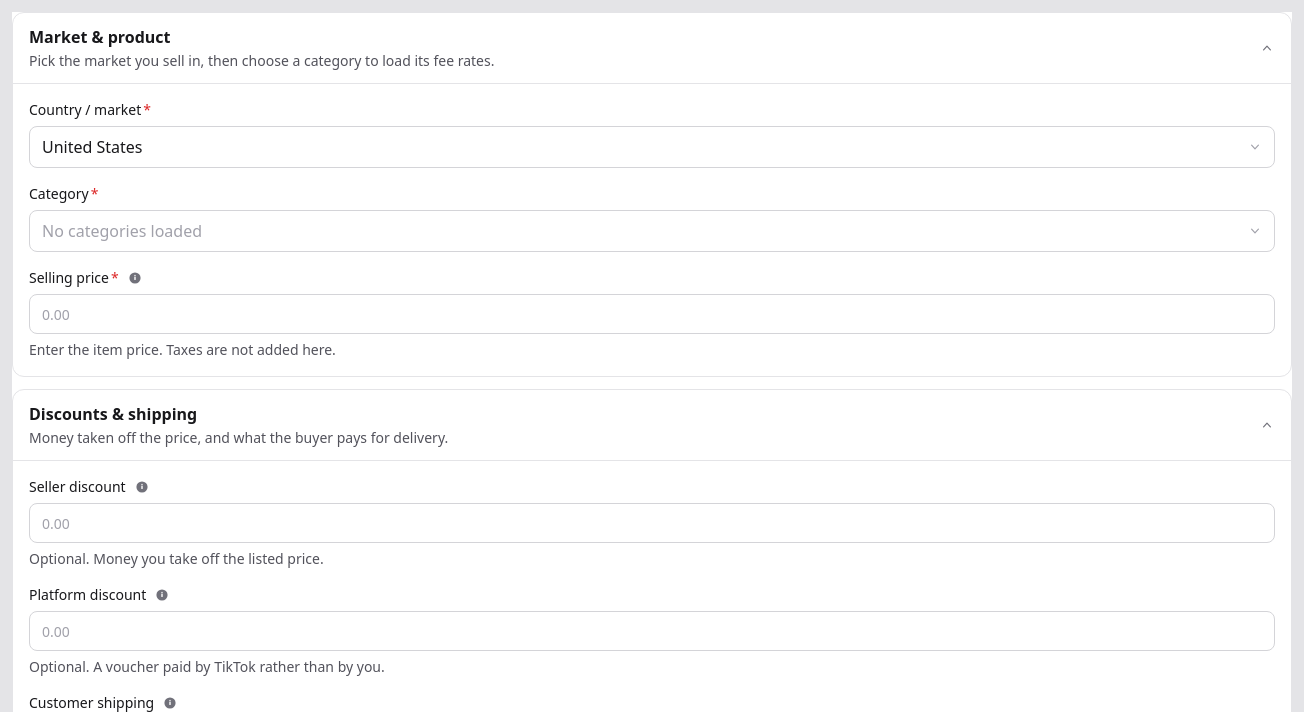
Test case: PH Seller tier control in the form › renders the control for PH
Focus the dropdown labelled "Country / market*": [652, 147] box [29,126,1275,168]
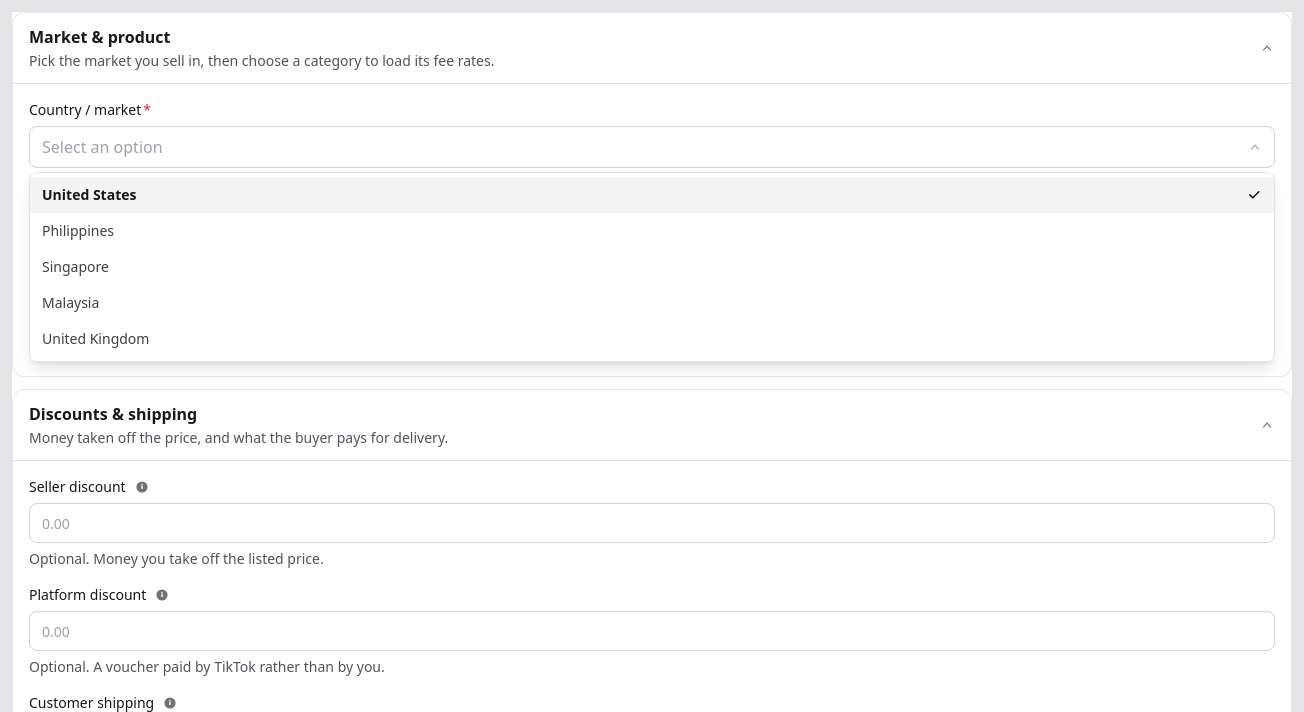
Press the mouse on the option "Philippines": [78, 230] box [42,221,114,240]
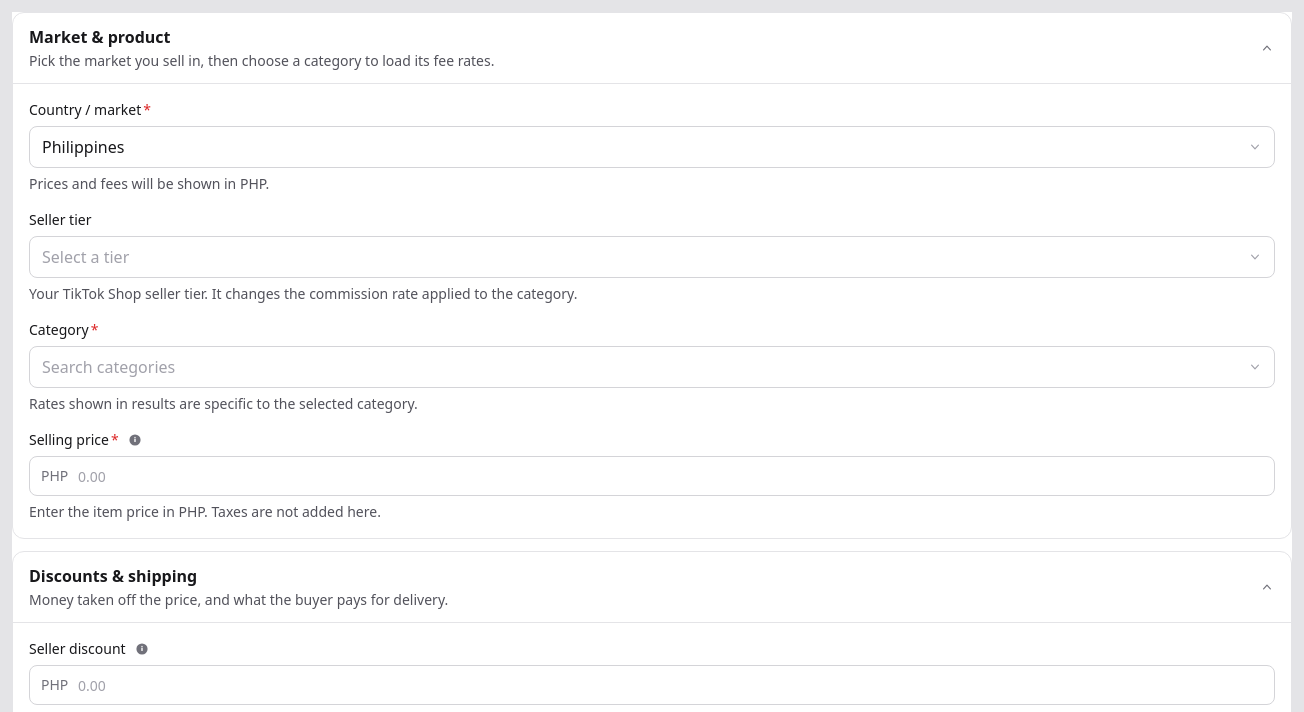
Expected: the dropdown labelled "Seller tier" is shown, [29,236,1275,278]
